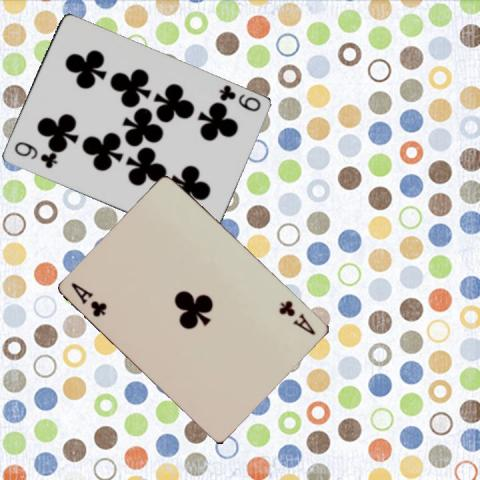9c: (10, 139, 58, 171), (215, 83, 262, 113)
Ac: (276, 297, 318, 337), (69, 279, 108, 319)
